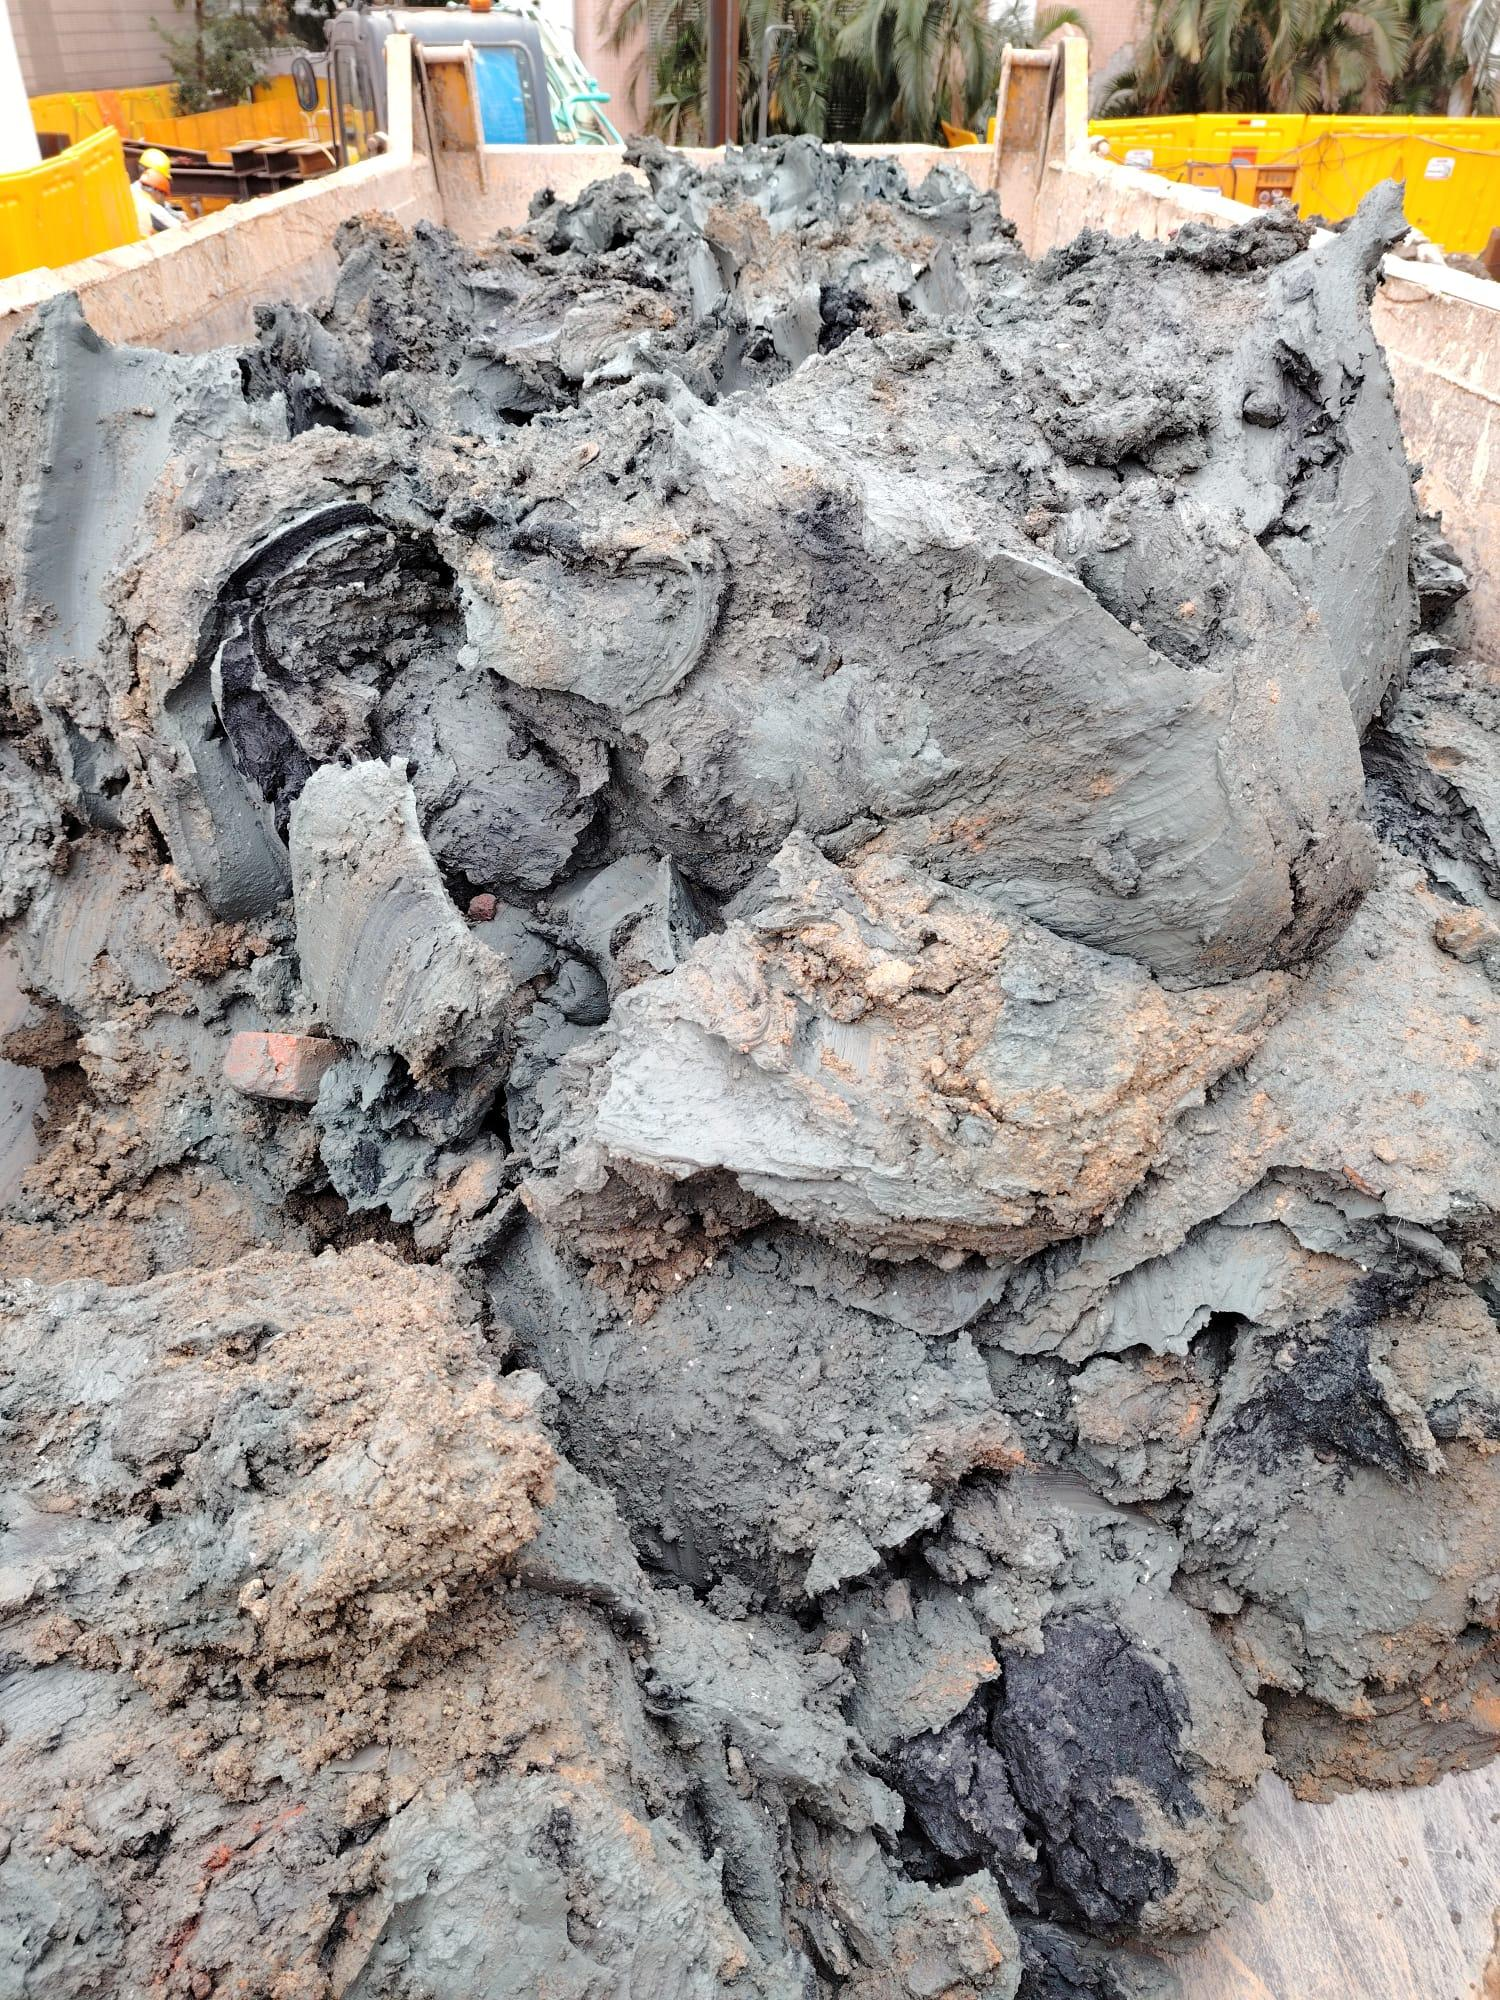wet: (104, 187, 1500, 1967)
